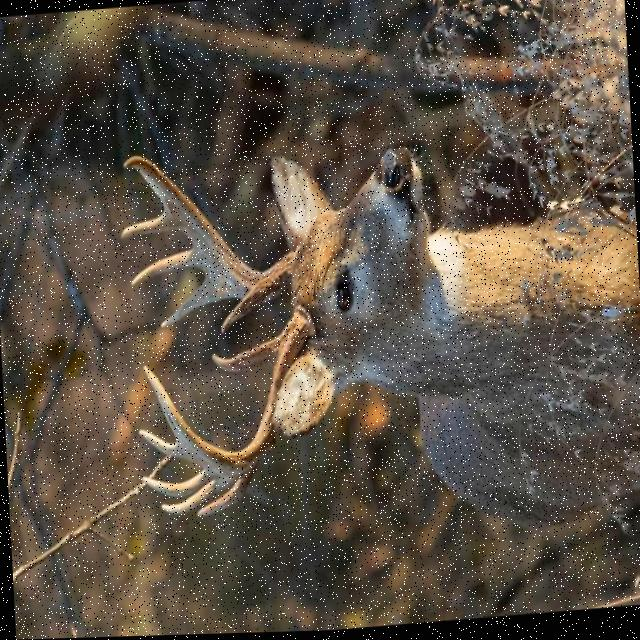L-F: (123, 154, 298, 299)
L-G1: (221, 279, 273, 335)
L-G2: (160, 277, 228, 328)
L-G3: (131, 247, 204, 287)
L-G4: (121, 208, 180, 240)
R-F: (143, 306, 316, 476)
R-G1: (211, 332, 283, 374)
R-G2: (197, 464, 257, 517)
R-G3: (160, 474, 239, 514)
R-G4: (142, 466, 221, 497)
R-G5: (139, 429, 193, 462)
